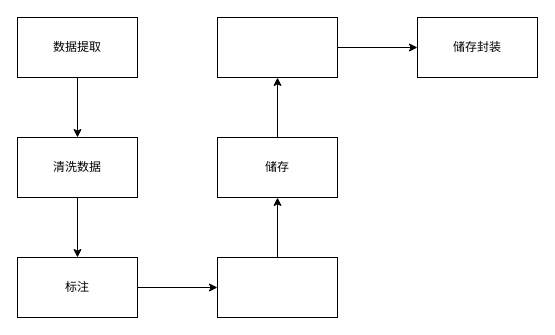
Some shapes in this 555 by 335 pixel diagram are drawn without their labels. The centre of each missing label's shape, as x and y in pixels:
"模型训练" belongs at pixel 277 287.
"验证" belongs at pixel 277 47.
